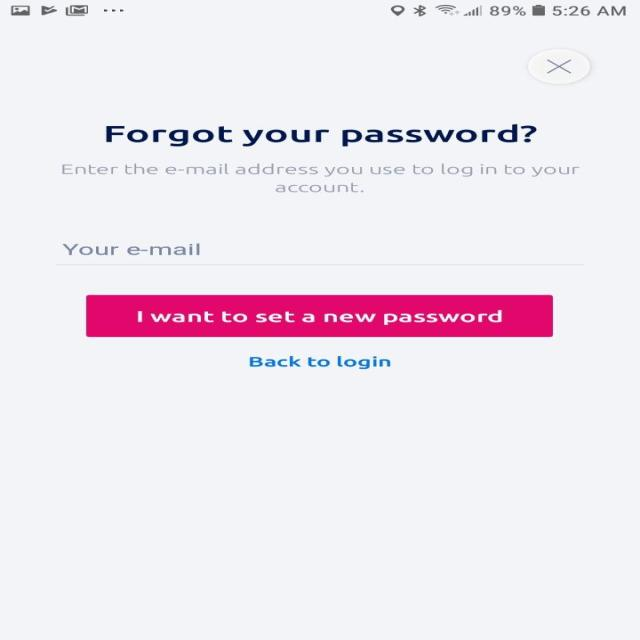EditText: (55, 243, 584, 265)
Icon: (526, 49, 590, 85)
Text: (61, 162, 580, 192), (105, 124, 537, 147), (248, 355, 390, 369), (62, 243, 200, 255)
TextButton: (85, 295, 553, 337)
